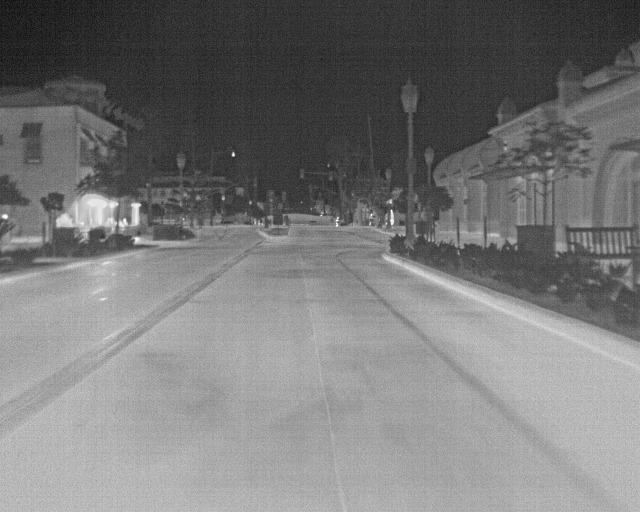light: (268, 192, 274, 204), (329, 171, 333, 181), (282, 191, 286, 201), (221, 192, 225, 201), (308, 184, 312, 193), (300, 168, 303, 178)
sign: (273, 212, 283, 224)
